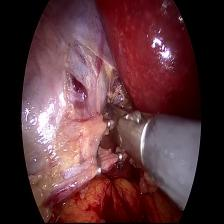Scissors: (105, 99, 148, 167)
